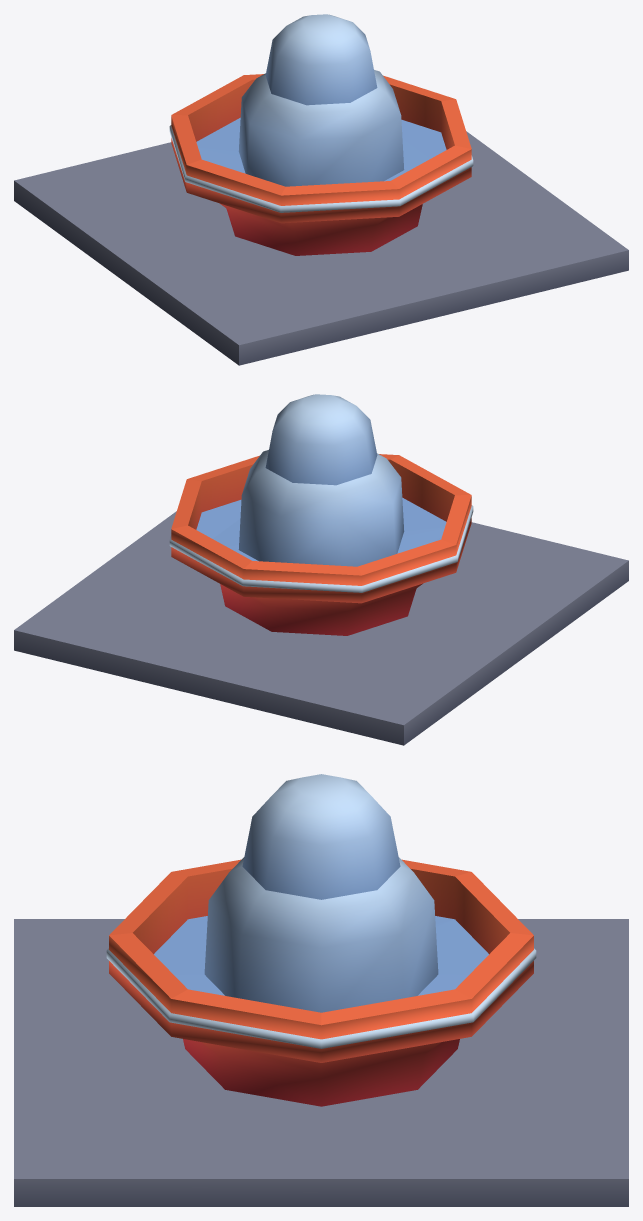
File: pavement-fountain.glb
3 renders of one model, top to bottom at view 1: azimuth 30°, elevation 25°; view 2: azimuth 150°, elevation 25°; view 3: azimuth 270°, elevation 25°, orthographic. The views are drawn at different scales.
Visible parts, largest first — view 1: pavement-fountain; view 2: pavement-fountain; view 3: pavement-fountain.
Boxes of the visible parts, x1,y1,x2,y2 form: pavement-fountain: [14, 14, 628, 365]; pavement-fountain: [14, 394, 628, 745]; pavement-fountain: [14, 774, 628, 1206].
Size of the model in its own units: 1 by 0.5227 by 1.
Materials: 1 (1 with a texture image).
